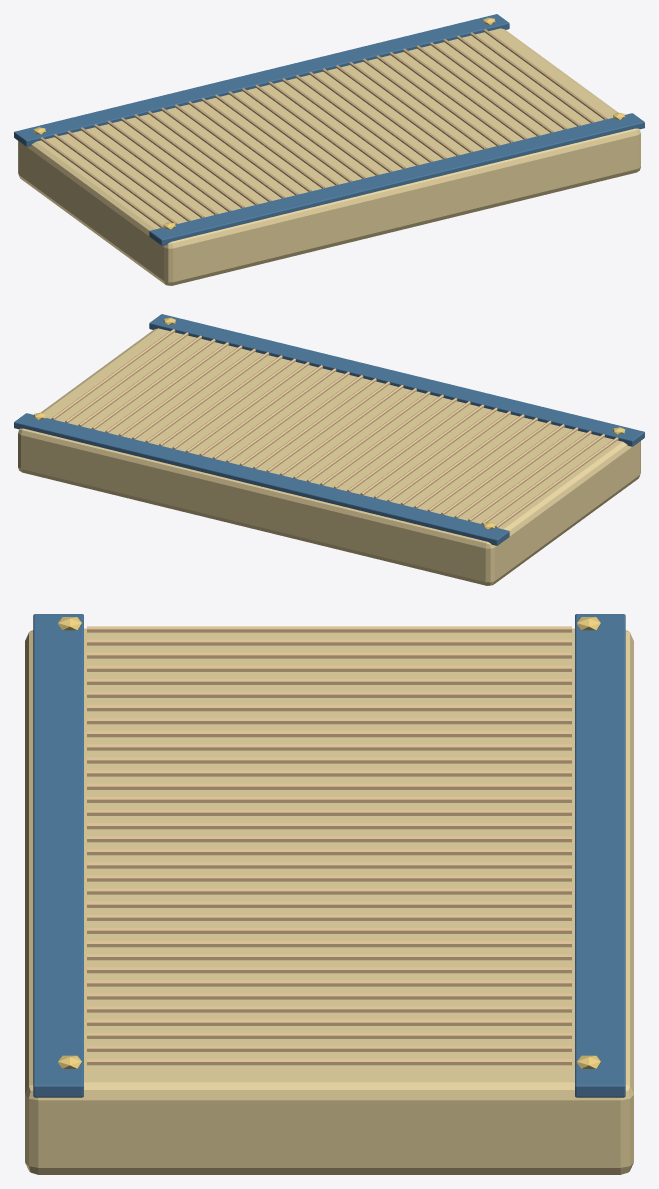
Rendered from home_tatami.glb.
The picture shows the model from 3 angles, top to bottom: view 1: azimuth 30°, elevation 25°; view 2: azimuth 150°, elevation 25°; view 3: azimuth 270°, elevation 25°; orthographic projection. The views are drawn at different scales.
Visible parts, largest first — view 1: Tatami straw woven panel, Deep indigo tatami border, Deep indigo tatami border.001, Individual woven grass reed.003, Individual woven grass reed.010, Individual woven grass reed.021, Individual woven grass reed.033, Individual woven grass reed.006, Individual woven grass reed.007, Individual woven grass reed.016, Individual woven grass reed.020, Individual woven grass reed.023 (+25 smaller); view 2: Tatami straw woven panel, Deep indigo tatami border.001, Deep indigo tatami border, Individual woven grass reed.003, Individual woven grass reed.010, Individual woven grass reed.021, Individual woven grass reed.033, Individual woven grass reed.006, Individual woven grass reed.007, Individual woven grass reed.016, Individual woven grass reed.020, Individual woven grass reed.023 (+25 smaller); view 3: Tatami straw woven panel, Deep indigo tatami border, Deep indigo tatami border.001, Individual woven grass reed, Individual woven grass reed.001, Individual woven grass reed.002, Individual woven grass reed.003, Individual woven grass reed.006, Individual woven grass reed.007, Individual woven grass reed.008, Individual woven grass reed.009, Individual woven grass reed.010 (+25 smaller).
Boxes of the visible parts, x1,y1,x2,y2 form: Tatami straw woven panel: (18,28,640,285); Deep indigo tatami border: (149,113,644,245); Deep indigo tatami border.001: (14,14,509,146); Individual woven grass reed.003: (80,127,204,217); Individual woven grass reed.010: (174,104,298,195); Individual woven grass reed.021: (322,68,446,159); Individual woven grass reed.033: (483,29,607,119); Individual woven grass reed.006: (121,117,244,208); Individual woven grass reed.007: (134,114,258,204); Individual woven grass reed.016: (255,85,379,175); Individual woven grass reed.020: (309,71,432,162); Individual woven grass reed.023: (349,62,473,152); Tatami straw woven panel: (18,328,640,585); Deep indigo tatami border.001: (14,413,509,545); Deep indigo tatami border: (149,314,644,446); Individual woven grass reed.003: (454,427,578,517); Individual woven grass reed.010: (360,404,484,495); Individual woven grass reed.021: (212,368,336,459); Individual woven grass reed.033: (51,329,175,419); Individual woven grass reed.006: (414,417,537,508); Individual woven grass reed.007: (400,414,524,504); Individual woven grass reed.016: (279,385,403,475); Individual woven grass reed.020: (226,371,349,462); Individual woven grass reed.023: (185,362,309,452); Tatami straw woven panel: (25,628,633,1174); Deep indigo tatami border: (33,614,83,1097); Deep indigo tatami border.001: (575,614,625,1097); Individual woven grass reed: (87,626,571,632); Individual woven grass reed.001: (87,639,571,645); Individual woven grass reed.002: (87,652,571,658); Individual woven grass reed.003: (87,665,571,671); Individual woven grass reed.006: (87,705,571,711); Individual woven grass reed.007: (87,718,571,724); Individual woven grass reed.008: (87,731,571,737); Individual woven grass reed.009: (87,744,571,750); Individual woven grass reed.010: (87,757,571,763).
Bounding box in the file's own units: 1.95 × 0.2117 × 1.06.
